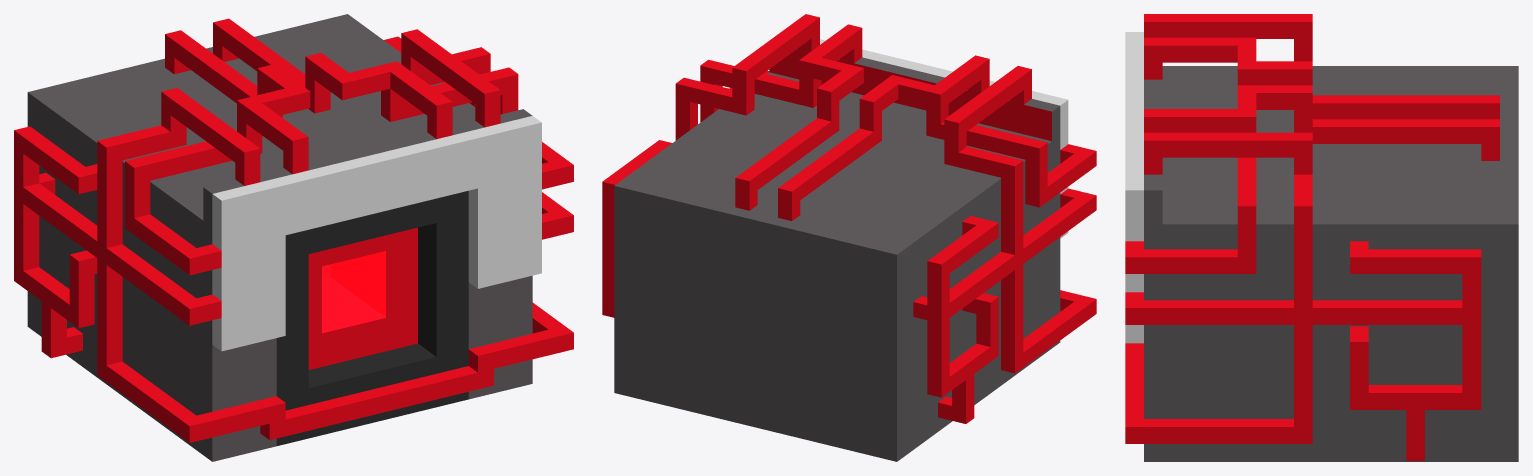
File: TurretHead.fbx
The picture shows the model from 3 angles, left to right: view 1: azimuth 30°, elevation 25°; view 2: azimuth 150°, elevation 25°; view 3: azimuth 270°, elevation 25°; orthographic projection. The views are drawn at different scales.
Parts seen in each view (by area): view 1: Cube; view 2: Cube; view 3: Cube.
Part boxes in pixels (box(x1,y1,x2,y2)): Cube: box(14, 14, 573, 461); Cube: box(602, 14, 1096, 461); Cube: box(1125, 14, 1518, 461).
Bounding box in the file's own units: 2400 × 1800 × 2100.
